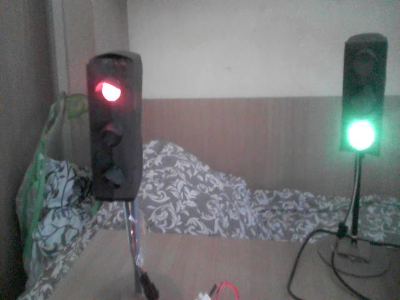trafficlight_green: (339, 37, 382, 152)
trafficlight_red: (88, 57, 141, 199)
